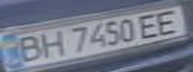0: (118, 16, 142, 44)
4: (87, 20, 109, 51)
5: (103, 18, 124, 47)
7: (66, 24, 90, 54)
B: (9, 33, 48, 64)
E: (151, 7, 187, 36), (133, 11, 166, 39)
H: (33, 29, 69, 60)
